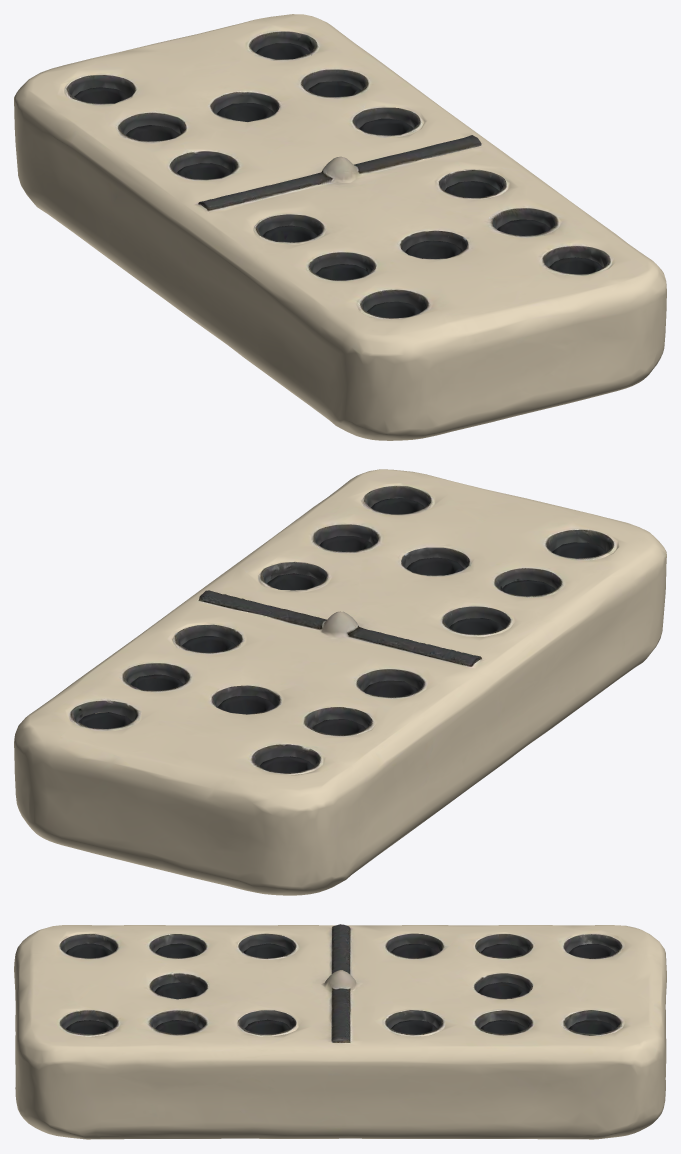
Rendered from 7-7-domino.glb.
The picture shows the model from 3 angles, top to bottom: view 1: azimuth 30°, elevation 25°; view 2: azimuth 150°, elevation 25°; view 3: azimuth 270°, elevation 25°; orthographic projection. The views are drawn at different scales.
Parts seen in each view (by area): view 1: tripo_node_67a69f21-e1d6-456a-9ff1-be3109790bec; view 2: tripo_node_67a69f21-e1d6-456a-9ff1-be3109790bec; view 3: tripo_node_67a69f21-e1d6-456a-9ff1-be3109790bec.
Boxes of the visible parts, left/top/right/bottom form: tripo_node_67a69f21-e1d6-456a-9ff1-be3109790bec: left=14, top=14, right=666, bottom=440; tripo_node_67a69f21-e1d6-456a-9ff1-be3109790bec: left=14, top=469, right=666, bottom=895; tripo_node_67a69f21-e1d6-456a-9ff1-be3109790bec: left=14, top=924, right=666, bottom=1139.
Bounding box in the file's own units: 0.4717 × 0.1809 × 0.9807.
1 material, 1 textured.
